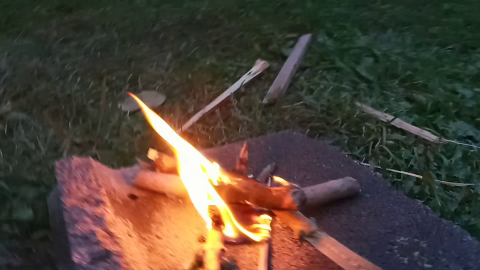fire: (117, 87, 266, 232)
